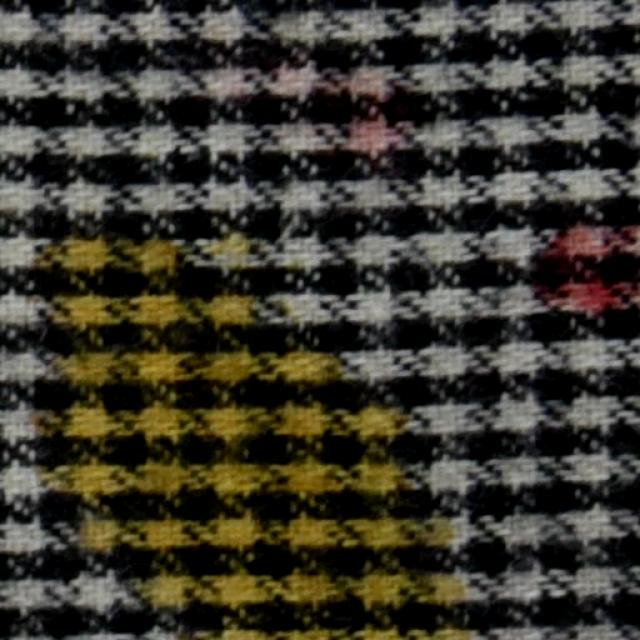Stain: (36, 213, 485, 639), (518, 210, 639, 338), (315, 84, 404, 154)
